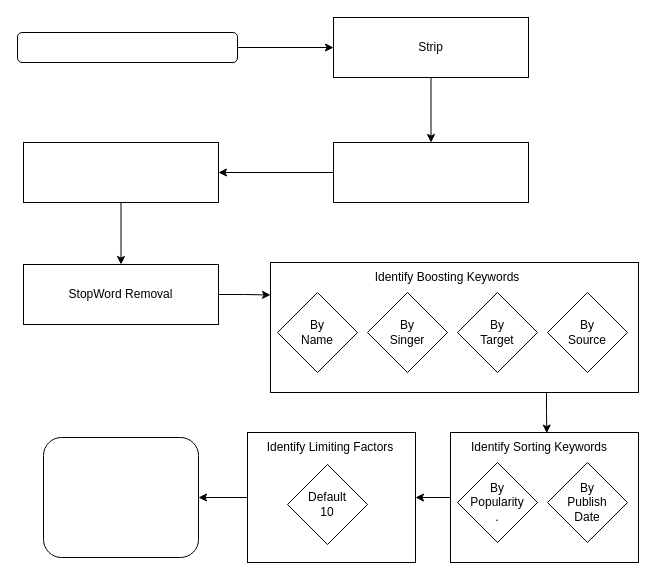
Some shapes in this 656 by 580 pixel diagram are drawn without their labels. The shapes that lost their labels are listed below. From the top down, each one's box as (x1, y1, x2, y2) in pixels, then its label:
(16, 32, 238, 62): User Query
(22, 142, 218, 202): Tokenization
(332, 142, 528, 202): Special Character Removal [!@#$%^&*()[];:,./<>?\|`~-=_+]
(42, 436, 198, 558): Final Processed Query + Boosting Factors + Limitings Factors + Sorting Factors
